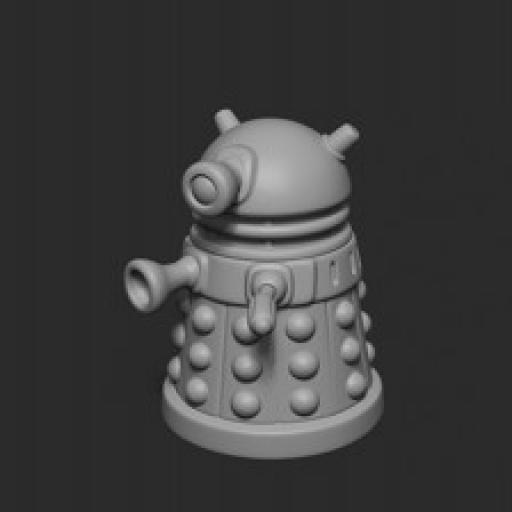dalek: (116, 98, 384, 460)
